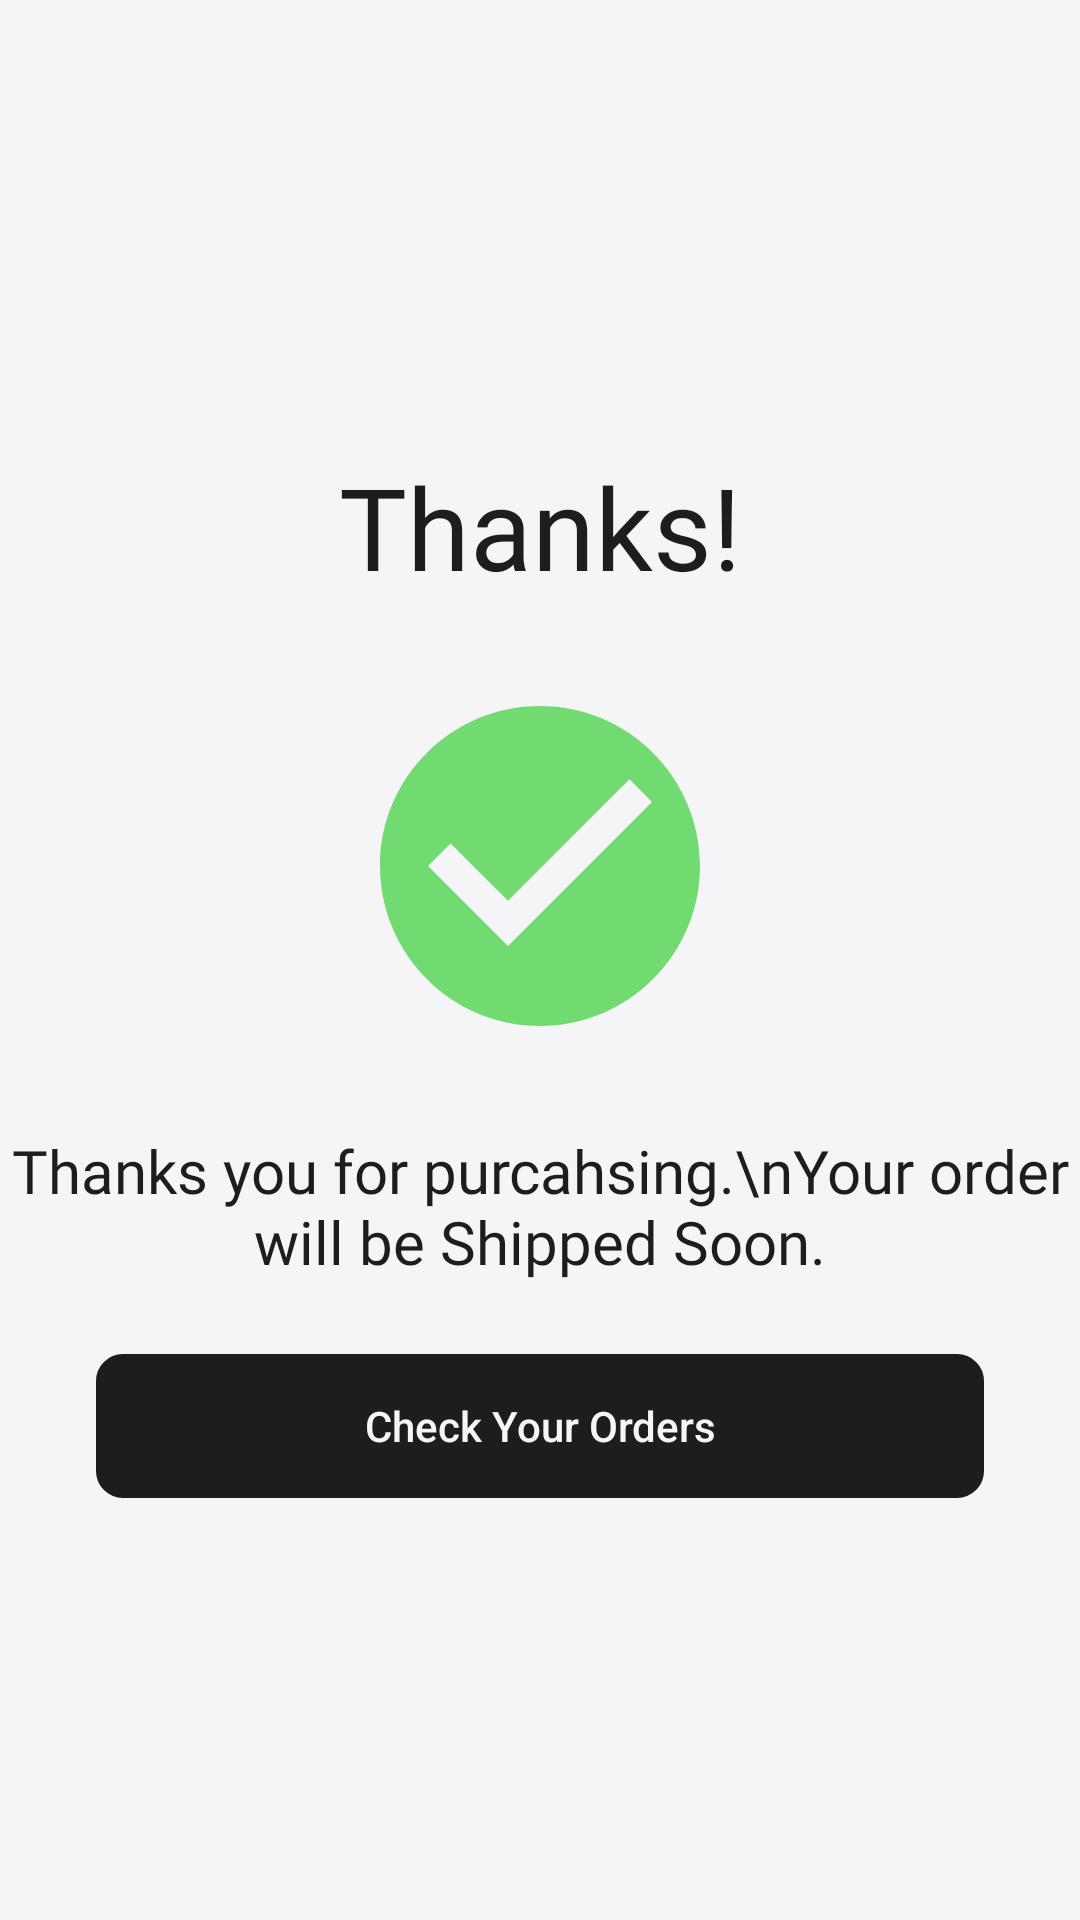

Where icons sit on this 1080x1920 app screen, as (x1, y1, x2, y2):
check circle: (380, 706, 700, 1026)
